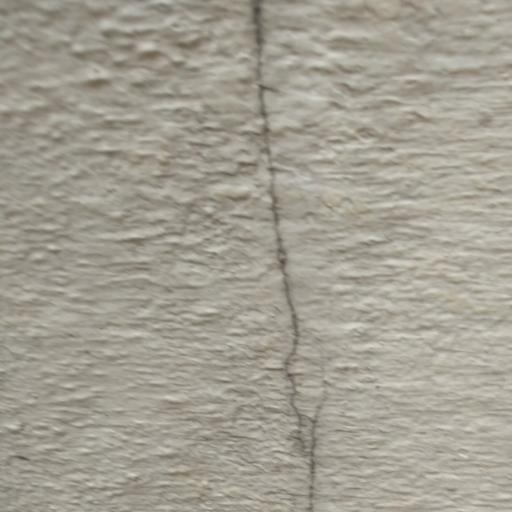minor_crack: (239, 0, 326, 512)
